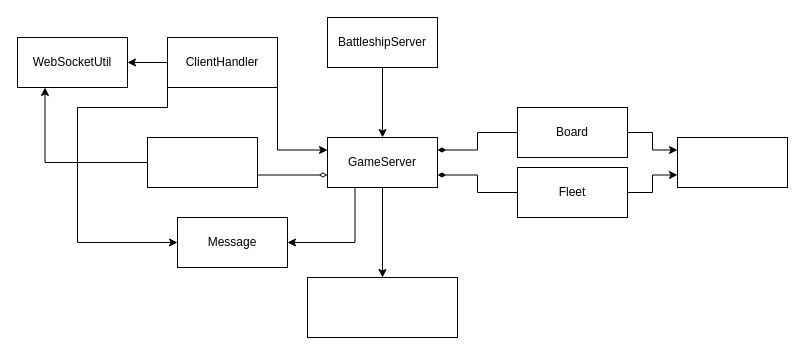
Some shapes in this 805 by 355 pixel diagram are drawn without their labels. Here are the shapes that lost their labels. From the top down, the centre of each, then its label:
(x=202, y=162): WriterThread
(x=732, y=162): GameConfiguration
(x=382, y=307): ShipPlacementGenerator
